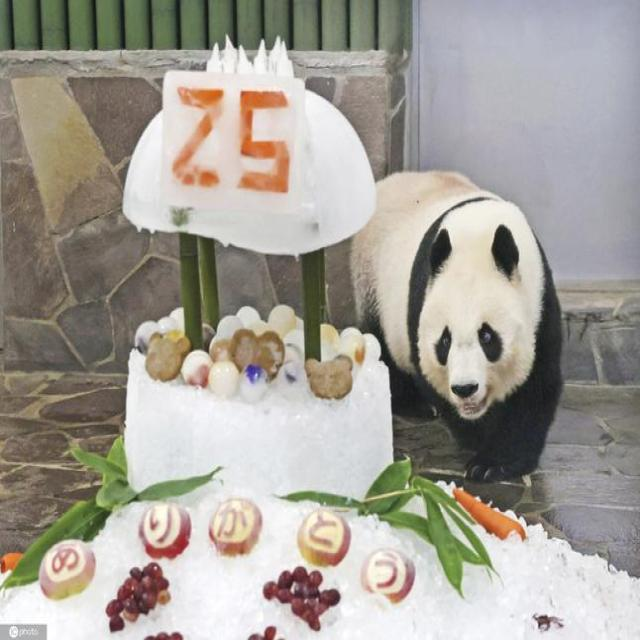panda: (347, 161, 567, 493)
